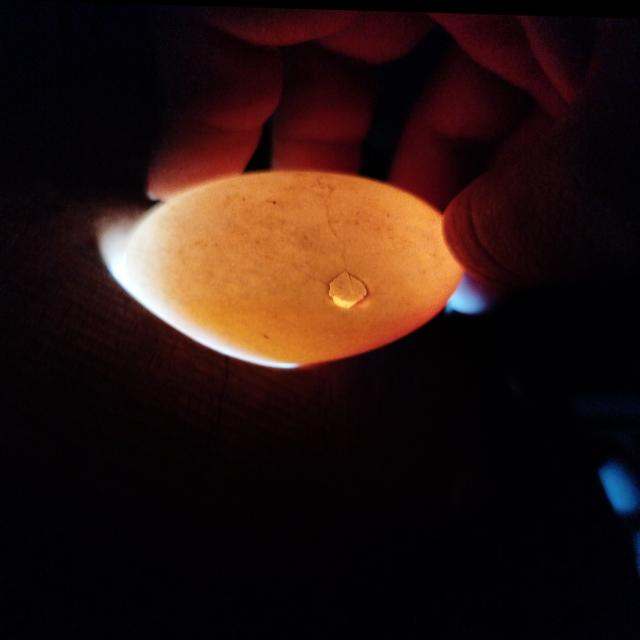Rachadura: (329, 269, 367, 306)
